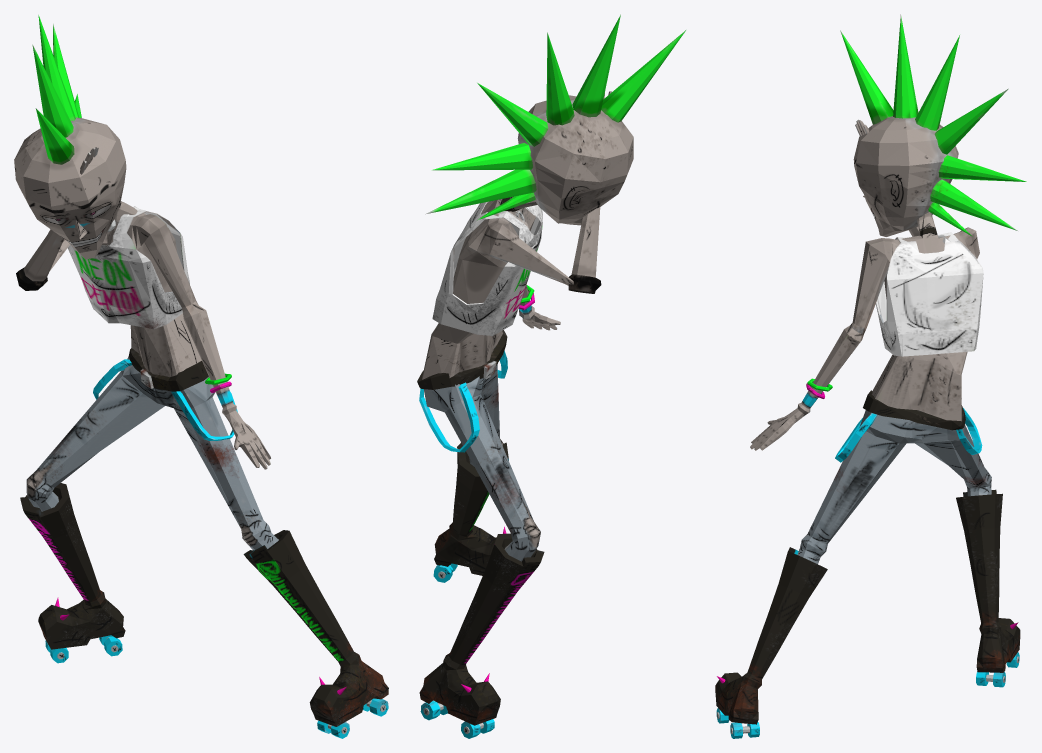
The model's file is punkAnimation_000076.obj.
The picture shows the model from 3 angles, left to right: view 1: azimuth 30°, elevation 25°; view 2: azimuth 150°, elevation 25°; view 3: azimuth 270°, elevation 25°; orthographic projection. The views are drawn at different scales.
Visible parts, largest first — view 1: Cube.004_Cube.003; view 2: Cube.004_Cube.003; view 3: Cube.004_Cube.003.
Part boxes in pixels (x1=…): Cube.004_Cube.003: x1=14, y1=15, x2=388, y2=738; Cube.004_Cube.003: x1=417, y1=14, x2=685, y2=738; Cube.004_Cube.003: x1=715, y1=14, x2=1026, y2=738.
Size of the model in its own units: 3.08 by 6.72 by 3.09.
